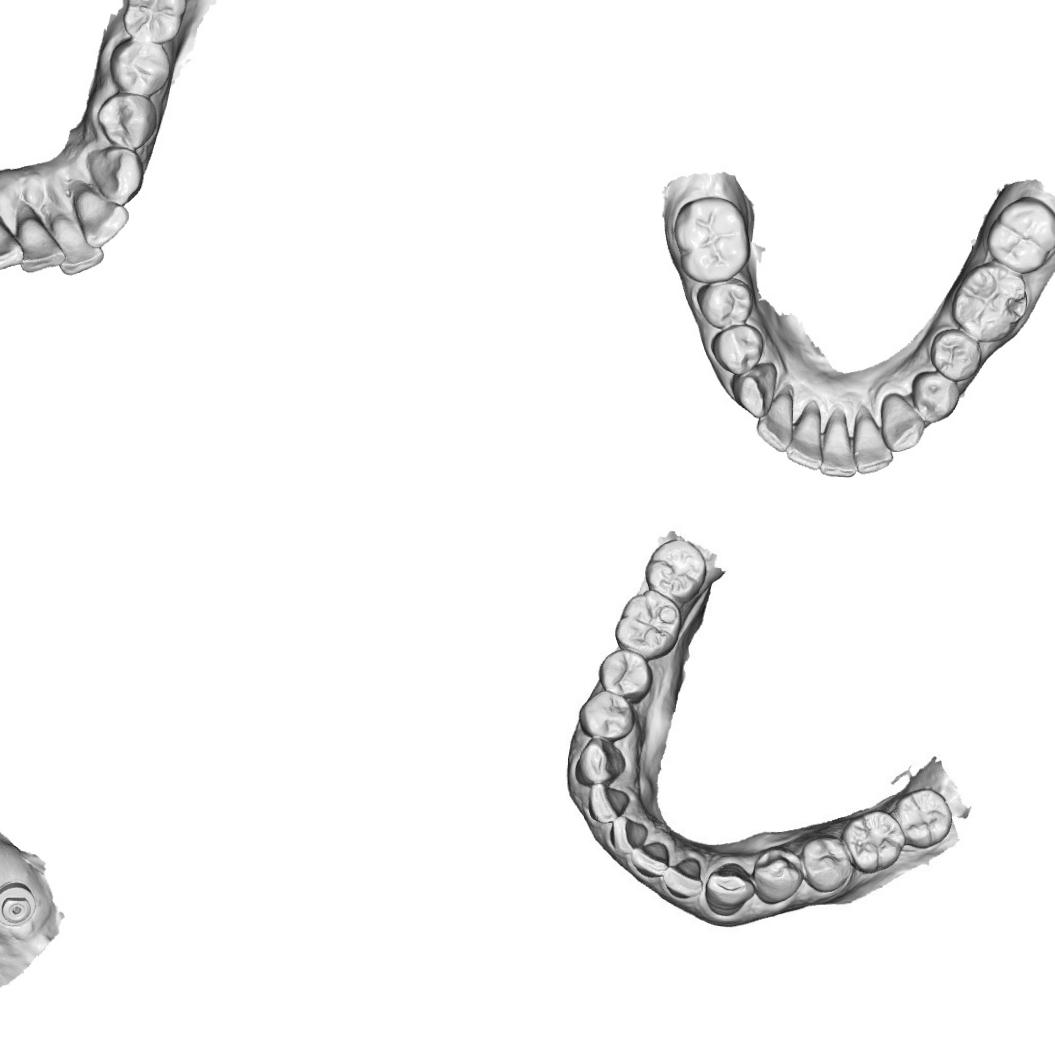canine: (84, 146, 146, 206), (701, 861, 754, 920), (878, 390, 925, 453), (729, 362, 778, 418), (575, 734, 626, 782)
implant: (0, 882, 35, 928)
incisor: (72, 184, 128, 250), (850, 403, 894, 475), (18, 212, 66, 276), (819, 406, 857, 478), (786, 401, 824, 470), (56, 225, 105, 278), (756, 389, 794, 452), (660, 850, 701, 902), (634, 839, 670, 878), (589, 784, 625, 823), (0, 218, 23, 276), (610, 816, 649, 850)
molar: (670, 195, 752, 284), (948, 260, 1028, 344), (984, 194, 1055, 264), (613, 587, 677, 661), (642, 538, 706, 602), (849, 810, 904, 870), (120, 0, 187, 45), (896, 791, 950, 846)
premolar: (108, 39, 173, 97), (94, 93, 156, 151), (693, 276, 755, 330), (709, 322, 766, 377), (928, 327, 982, 382), (910, 369, 960, 425), (753, 847, 802, 902), (806, 840, 849, 891), (602, 652, 648, 696), (582, 696, 630, 737)
